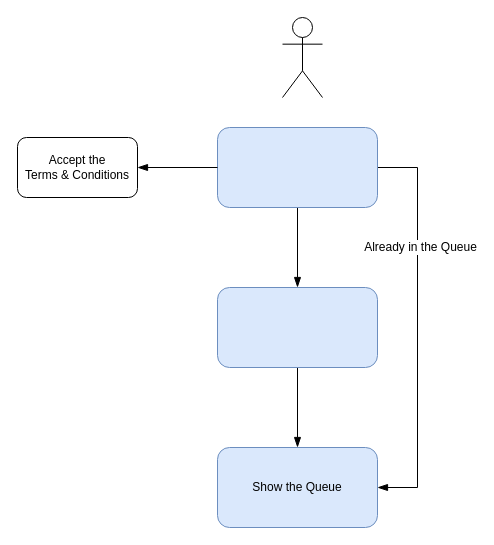
Some shapes in this 494 by 545 pixel diagram are drawn without their labels. The shapes that lost their labels are listed below. From the top down, each one's centre as x and y in pixels, then its label:
At [297,167]: "Login or Register".
At [297,327]: "Join the Queue".
